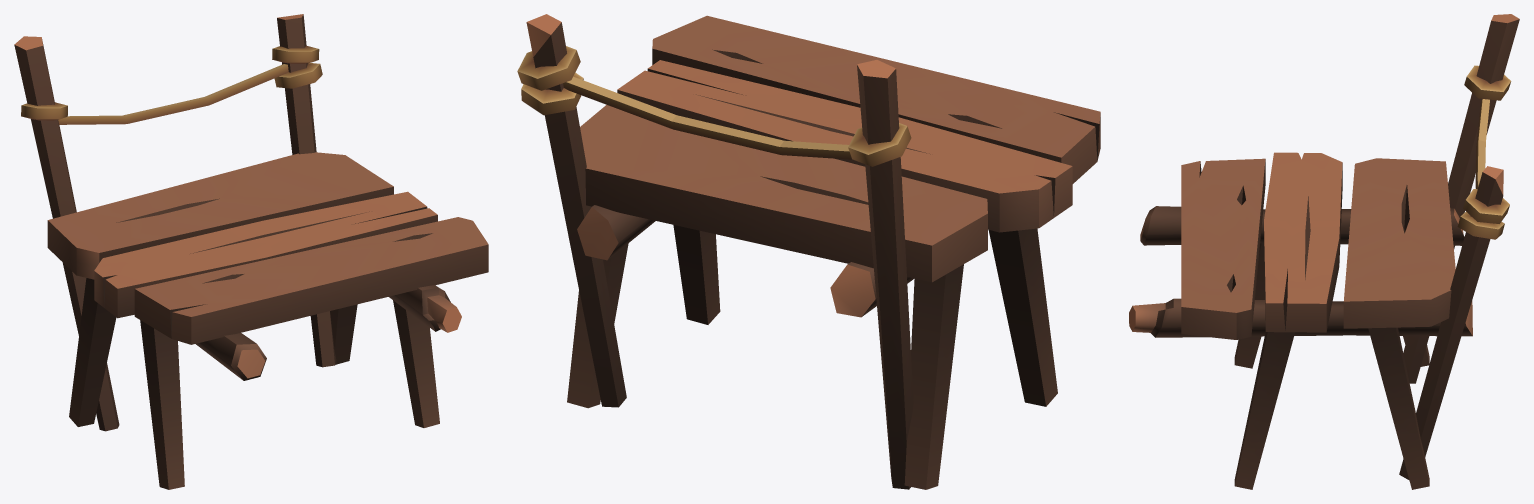
File: Table_1C.fbx
3 views of the same model, side by side, from view 1: azimuth 30°, elevation 25°; view 2: azimuth 150°, elevation 25°; view 3: azimuth 270°, elevation 25° (orthographic). The views are drawn at different scales.
Parts seen in each view (by area): view 1: Table_1C; view 2: Table_1C; view 3: Table_1C.
Part boxes in pixels (x1=…): Table_1C: x1=14, y1=14, x2=488, y2=489; Table_1C: x1=517, y1=14, x2=1100, y2=489; Table_1C: x1=1129, y1=14, x2=1519, y2=489.
Size of the model in its own units: 181 by 185 by 186.
